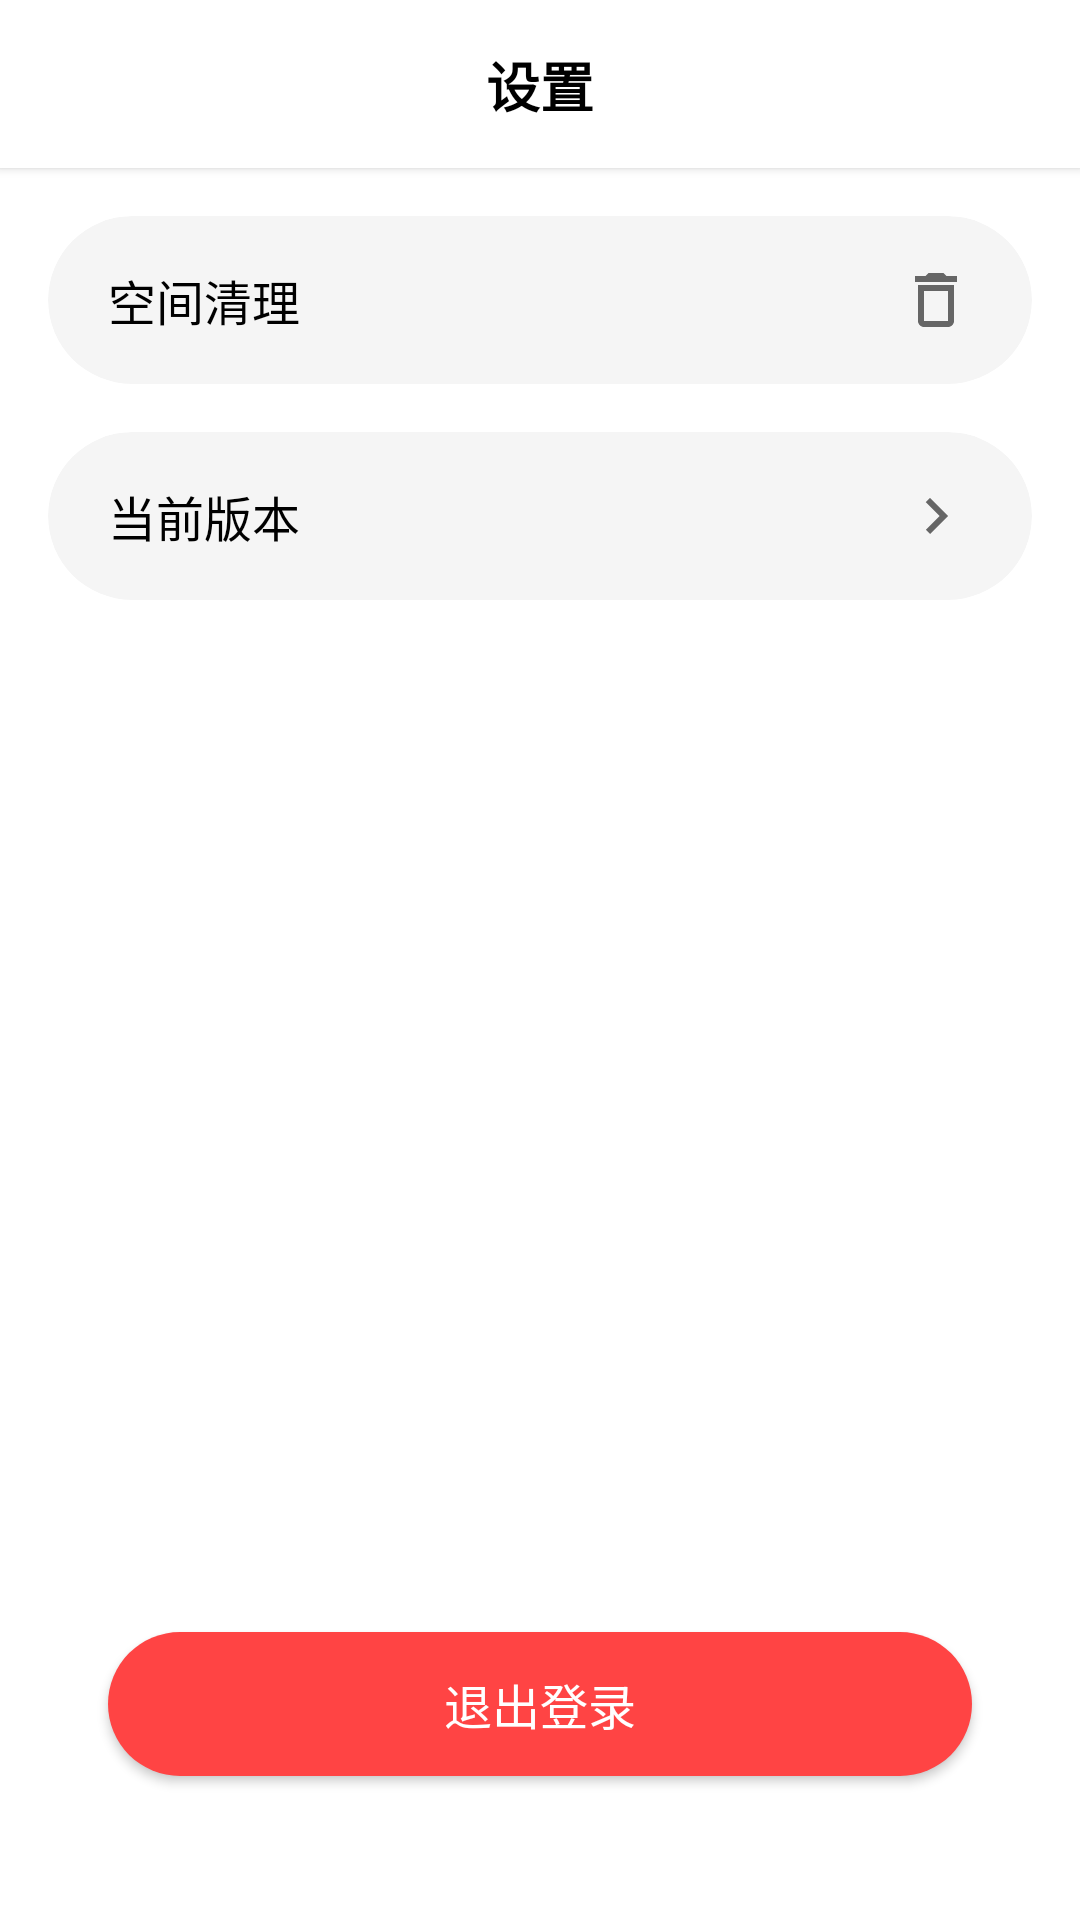

Where icons sit on this 1080 x 1920 app screen, as (x1, y1, x2, y2):
clear: (915, 273, 957, 327)
